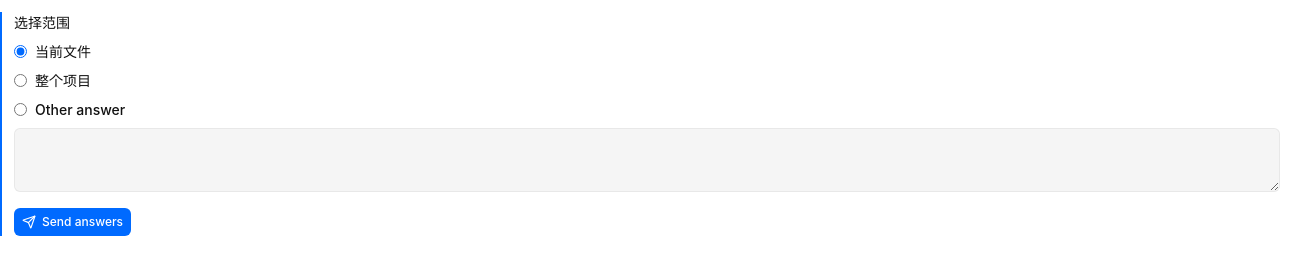
Test: keeps rejected answers for retry and submits ordinary text only once
This screenshot has width=1292, height=253.
Check: the radio button labelled "当前文件" is checked, box [14, 45, 27, 58]
Type "仅修改测试" into the text box at (647, 160), box [14, 128, 1280, 192]
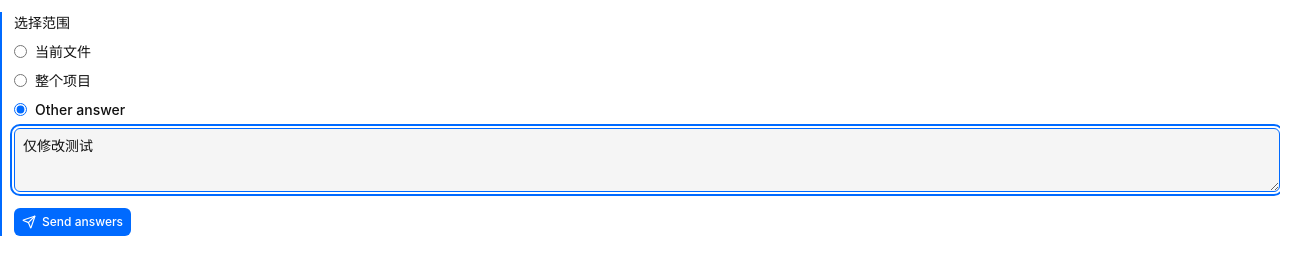
Click the button at (72, 222), box [14, 208, 131, 236]
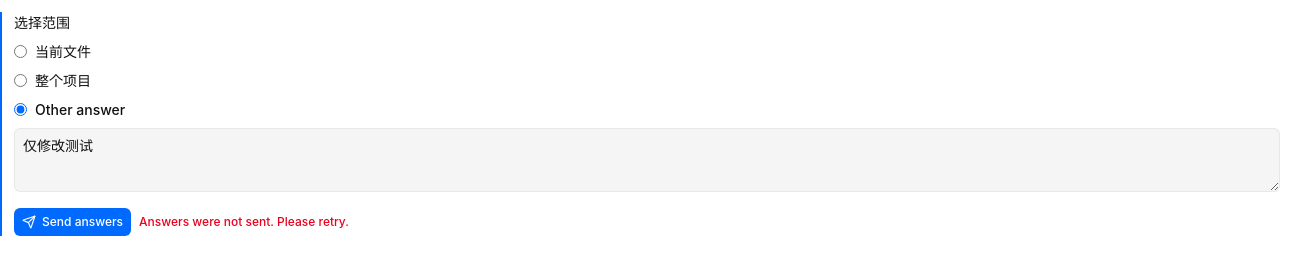
Check: the message "Answers were not sent. Please retry." is shown, box [139, 213, 349, 231]
Click the button at (72, 222), box [14, 208, 131, 236]
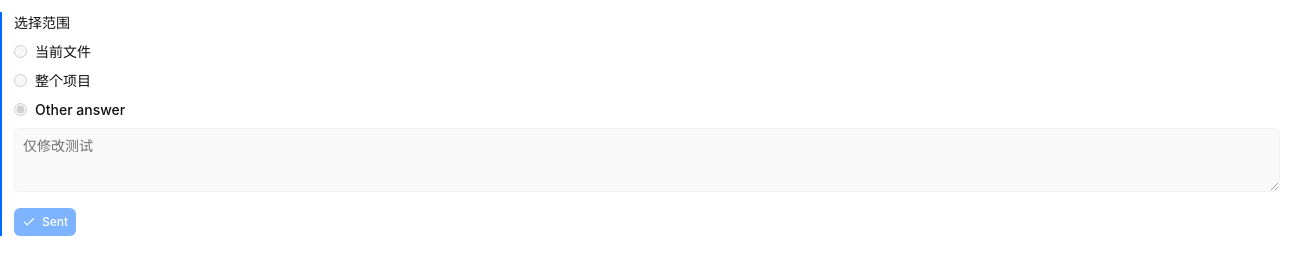
Check: the button is disabled, box [14, 208, 76, 236]
